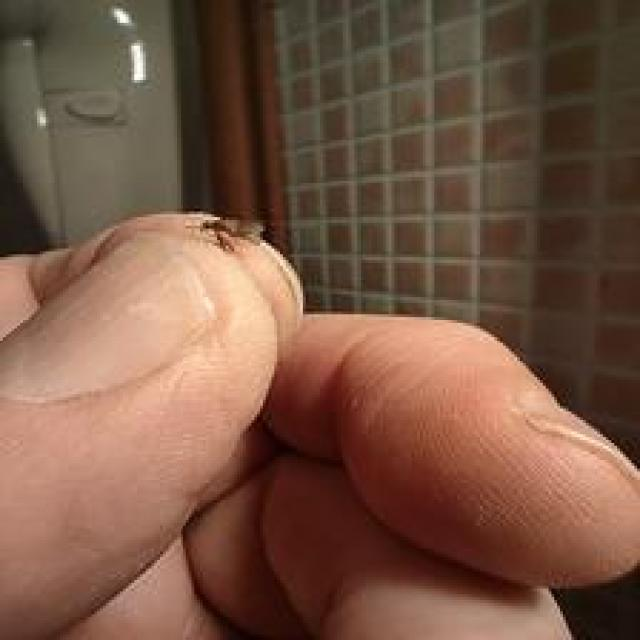Culex: (0, 0, 151, 251)
